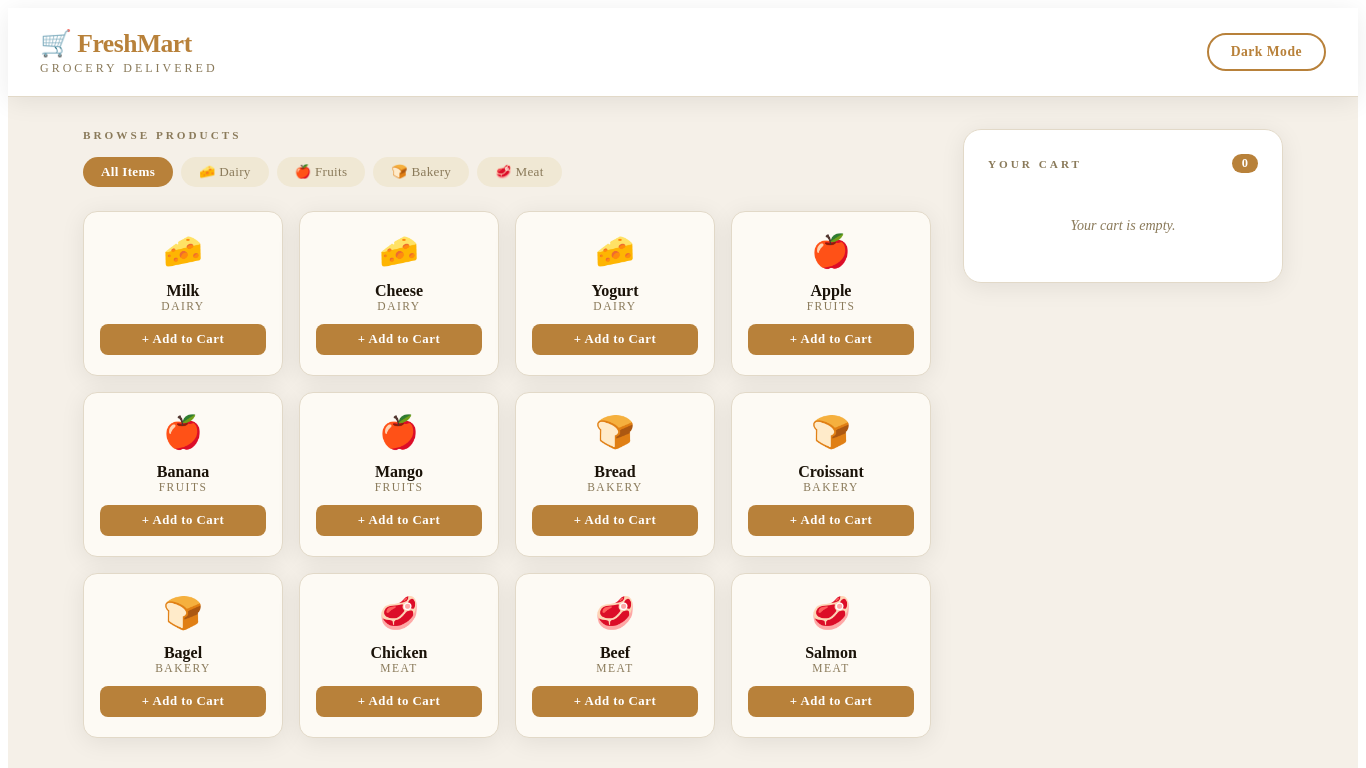
Test: ShoppingApp › Cart interactions › removes a product from the cart when ✕ is clicked
This screenshot has width=1366, height=768.
Click the button "+ Add to Cart" below "Milk" at x=183, y=340, box top-left (100, 324), bottom-right (266, 355)
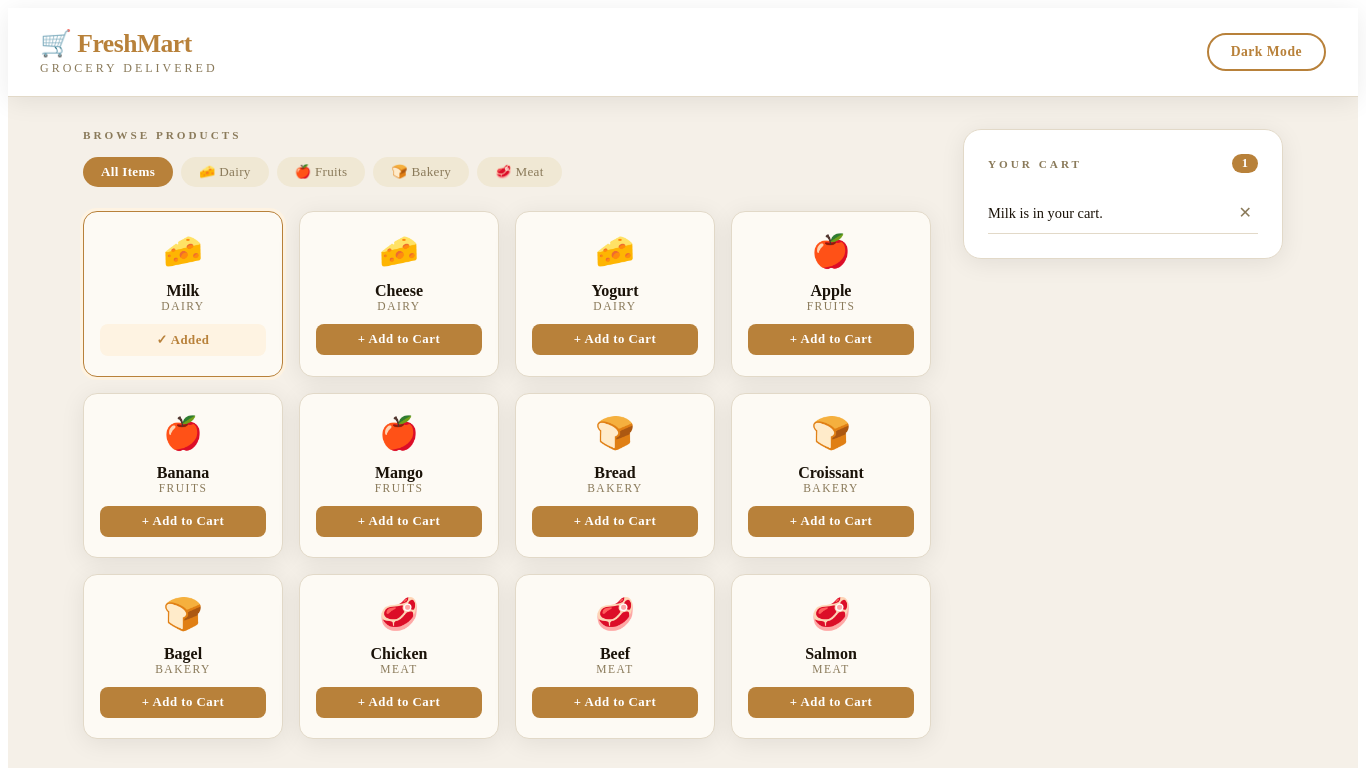
Click the button titled "Remove" at x=1245, y=213, box top-left (1233, 203), bottom-right (1258, 223)
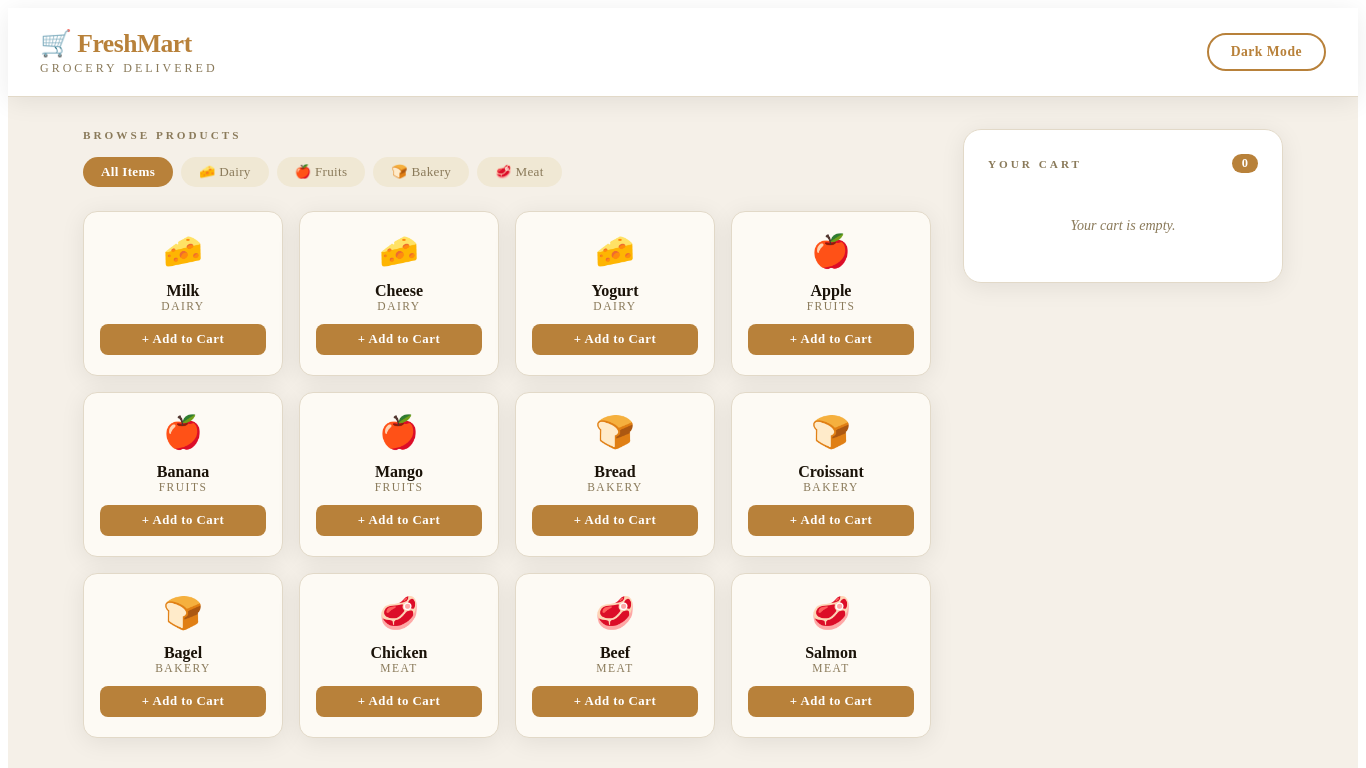
Expected: the text "Your cart is empty." is shown, top-left (1070, 217), bottom-right (1176, 233)
